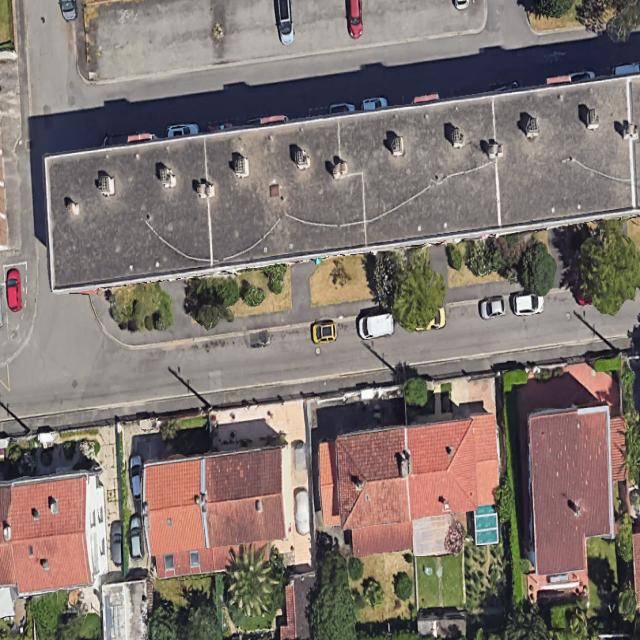immeuble: (32, 67, 640, 293)
maison: (311, 411, 514, 568), (137, 444, 295, 579), (521, 400, 615, 593), (0, 468, 113, 598)
